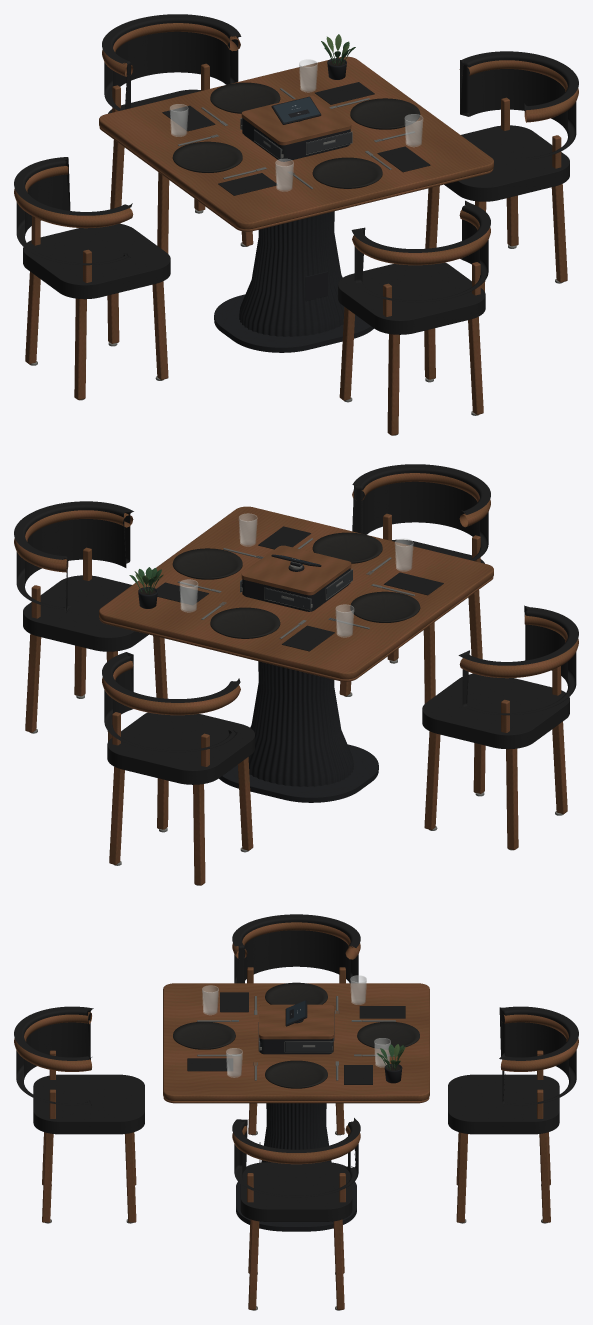
File: table-closed.gltf
3 views of the same model, one above another, from view 1: azimuth 30°, elevation 25°; view 2: azimuth 150°, elevation 25°; view 3: azimuth 270°, elevation 25° (orthographic). The views are drawn at different scales.
Parts seen in each view (by area): view 1: Walnut_tabletop, Fluted_sculptural_pedestal, Chair_4_upholstered_seat, Chair_1_upholstered_seat, Chair_3_continuous_upholstered_back, Chair_2_continuous_upholstered_back, Chair_2_upholstered_seat, Chair_4_continuous_upholstered_back, Soft_oval_floor_base, Chair_1_continuous_upholstered_back, Device_walnut_roof, Chair_1_oak_back_frame (+32 smaller); view 2: Walnut_tabletop, Fluted_sculptural_pedestal, Chair_4_upholstered_seat, Chair_3_upholstered_seat, Chair_1_continuous_upholstered_back, Chair_2_continuous_upholstered_back, Chair_2_upholstered_seat, Chair_4_continuous_upholstered_back, Device_walnut_roof, Soft_oval_floor_base, Chair_3_continuous_upholstered_back, Chair_3_oak_back_frame (+30 smaller); view 3: Walnut_tabletop, Chair_1_upholstered_seat, Chair_3_upholstered_seat, Chair_2_upholstered_seat, Chair_4_continuous_upholstered_back, Chair_3_continuous_upholstered_back, Chair_1_continuous_upholstered_back, Fluted_sculptural_pedestal, Device_walnut_roof, Chair_2_continuous_upholstered_back, Chair_2_oak_back_frame, Chair_1_oak_back_frame (+19 smaller).
Boxes of the visible parts, x1,y1,x2,y2 form: Walnut_tabletop: (99,56,493,229); Fluted_sculptural_pedestal: (239,211,344,336); Chair_4_upholstered_seat: (23,223,170,299); Chair_1_upholstered_seat: (338,262,485,334); Chair_3_continuous_upholstered_back: (102,14,241,110); Chair_2_continuous_upholstered_back: (460,51,578,159); Chair_2_upholstered_seat: (444,125,569,201); Chair_4_continuous_upholstered_back: (14,157,132,265); Soft_oval_floor_base: (214,294,373,352); Chair_1_continuous_upholstered_back: (351,200,490,302); Device_walnut_roof: (241,95,351,145); Chair_1_oak_back_frame: (352,209,490,265); Walnut_tabletop: (99,506,493,679); Fluted_sculptural_pedestal: (248,661,353,786); Chair_4_upholstered_seat: (422,673,569,749); Chair_3_upholstered_seat: (107,712,254,784); Chair_1_continuous_upholstered_back: (352,464,490,560); Chair_2_continuous_upholstered_back: (14,501,133,612); Chair_2_upholstered_seat: (23,575,148,651); Chair_4_continuous_upholstered_back: (458,605,578,715); Device_walnut_roof: (241,545,351,595); Soft_oval_floor_base: (219,744,378,802); Chair_3_continuous_upholstered_back: (102,652,240,752); Chair_3_oak_back_frame: (102,660,240,715); Walnut_tabletop: (163,983,429,1100); Chair_1_upholstered_seat: (33,1074,144,1134); Chair_3_upholstered_seat: (448,1074,559,1134); Chair_2_upholstered_seat: (240,1162,352,1221); Chair_4_continuous_upholstered_back: (232,914,360,983); Chair_3_continuous_upholstered_back: (499,1006,578,1105); Chair_1_continuous_upholstered_back: (14,1006,93,1105); Fluted_sculptural_pedestal: (261,1103,331,1162); Device_walnut_roof: (259,1004,333,1039); Chair_2_continuous_upholstered_back: (232,1118,360,1197); Chair_2_oak_back_frame: (232,1125,360,1164); Chair_1_oak_back_frame: (14,1012,91,1071).
Bounding box in the file's own units: 2.33 × 0.9026 × 2.33.
18 materials, 6 textured.
